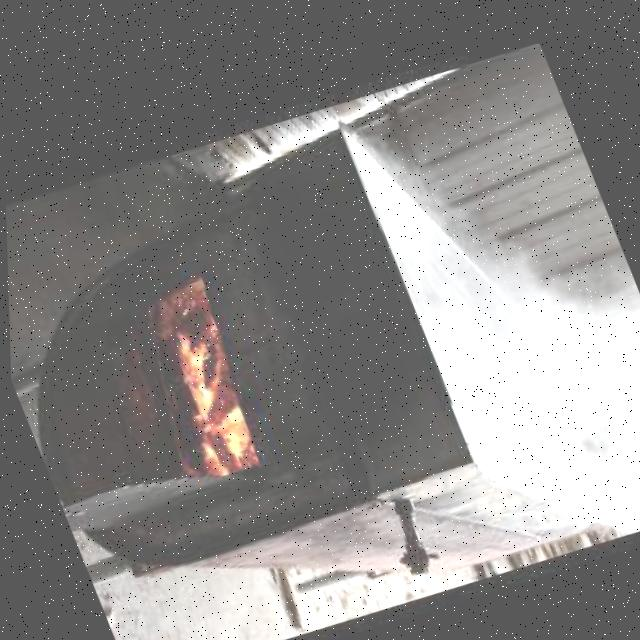Fire: (165, 318, 262, 476)
Smoke: (333, 38, 640, 567)
